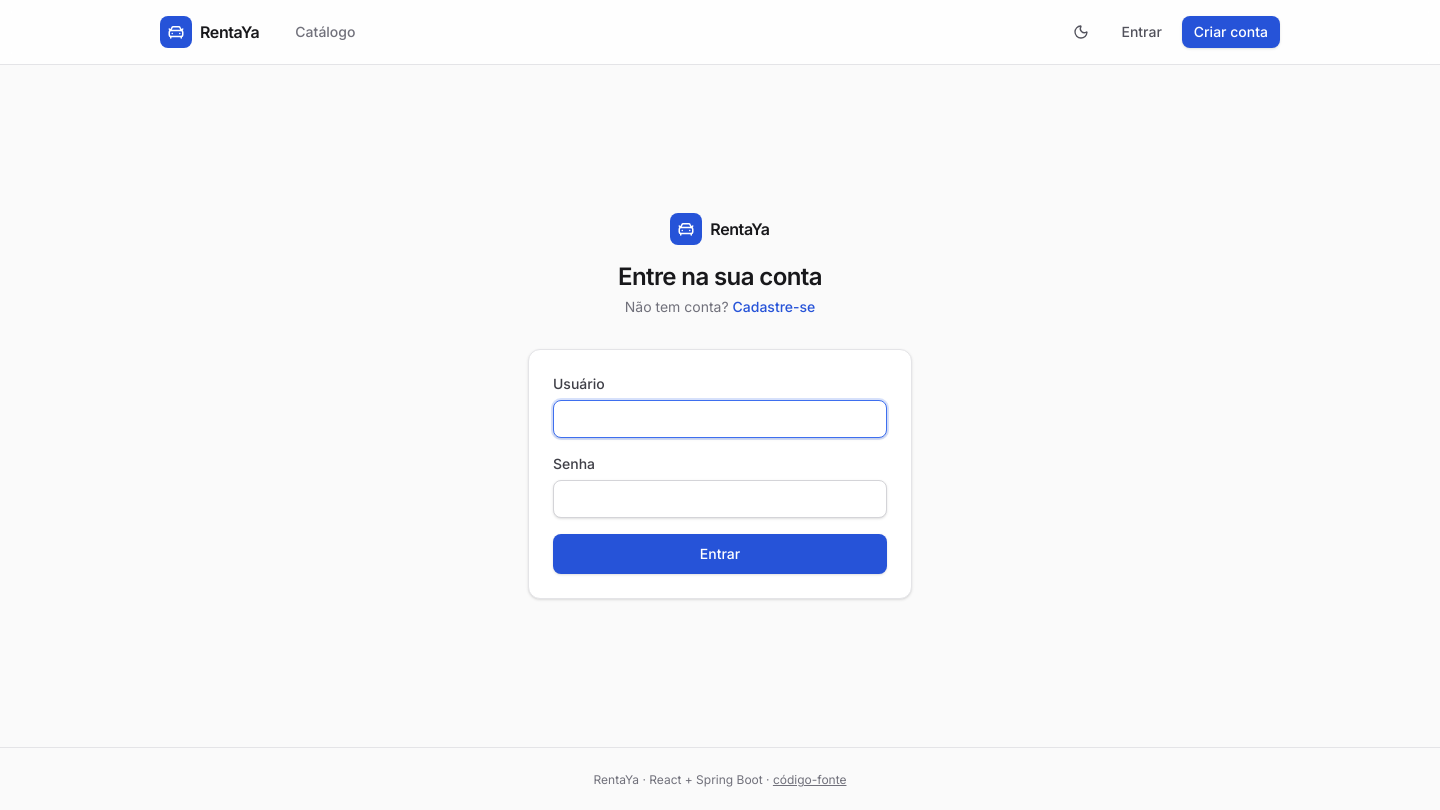
Test: Acceso y permisos › el login guarda el token y lleva al panel según el rol
Type "admin" into the field labelled "Usuário" at (720, 419), box [553,400,887,438]
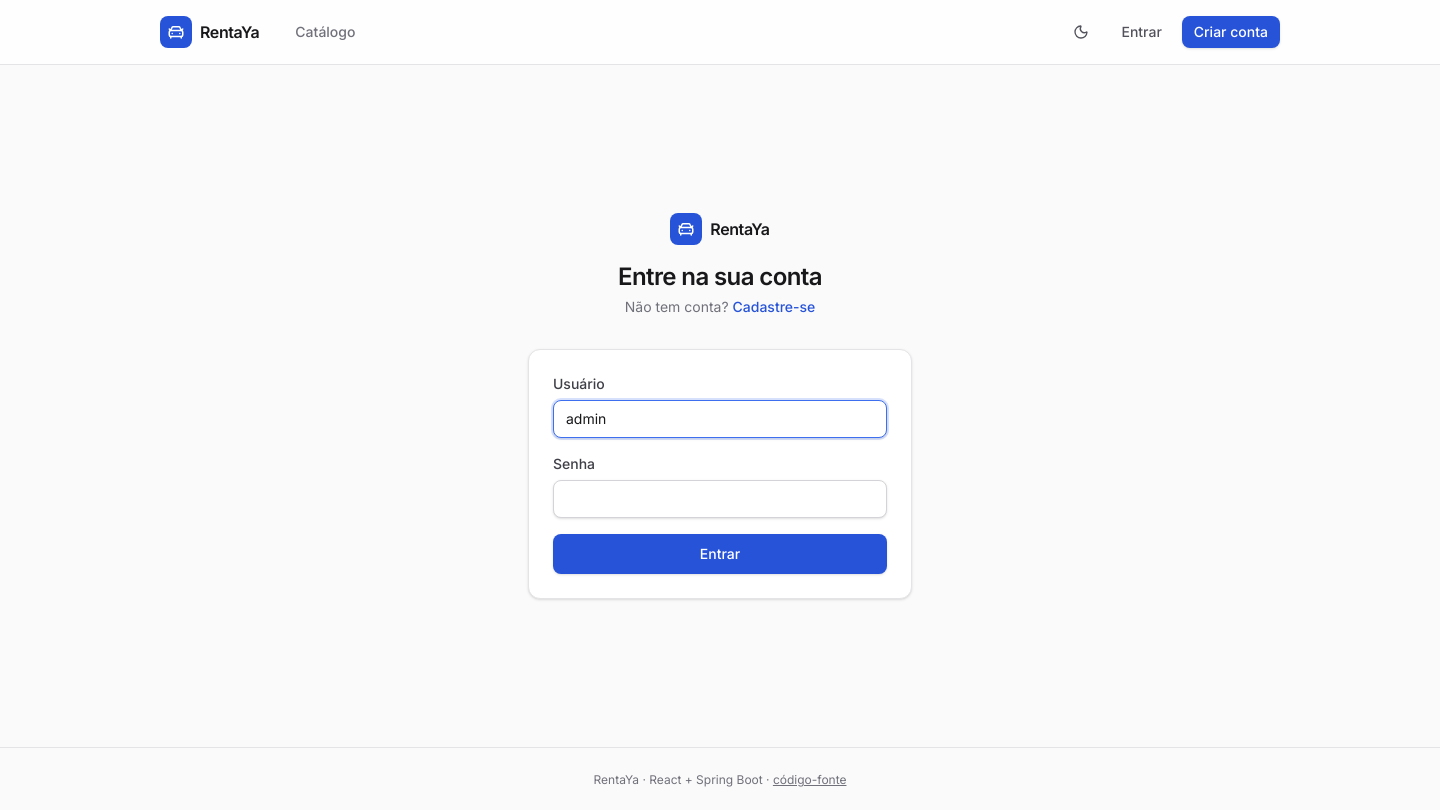
Type "clave-secreta" into the password field labelled "Senha" at (720, 499), box [553,480,887,518]
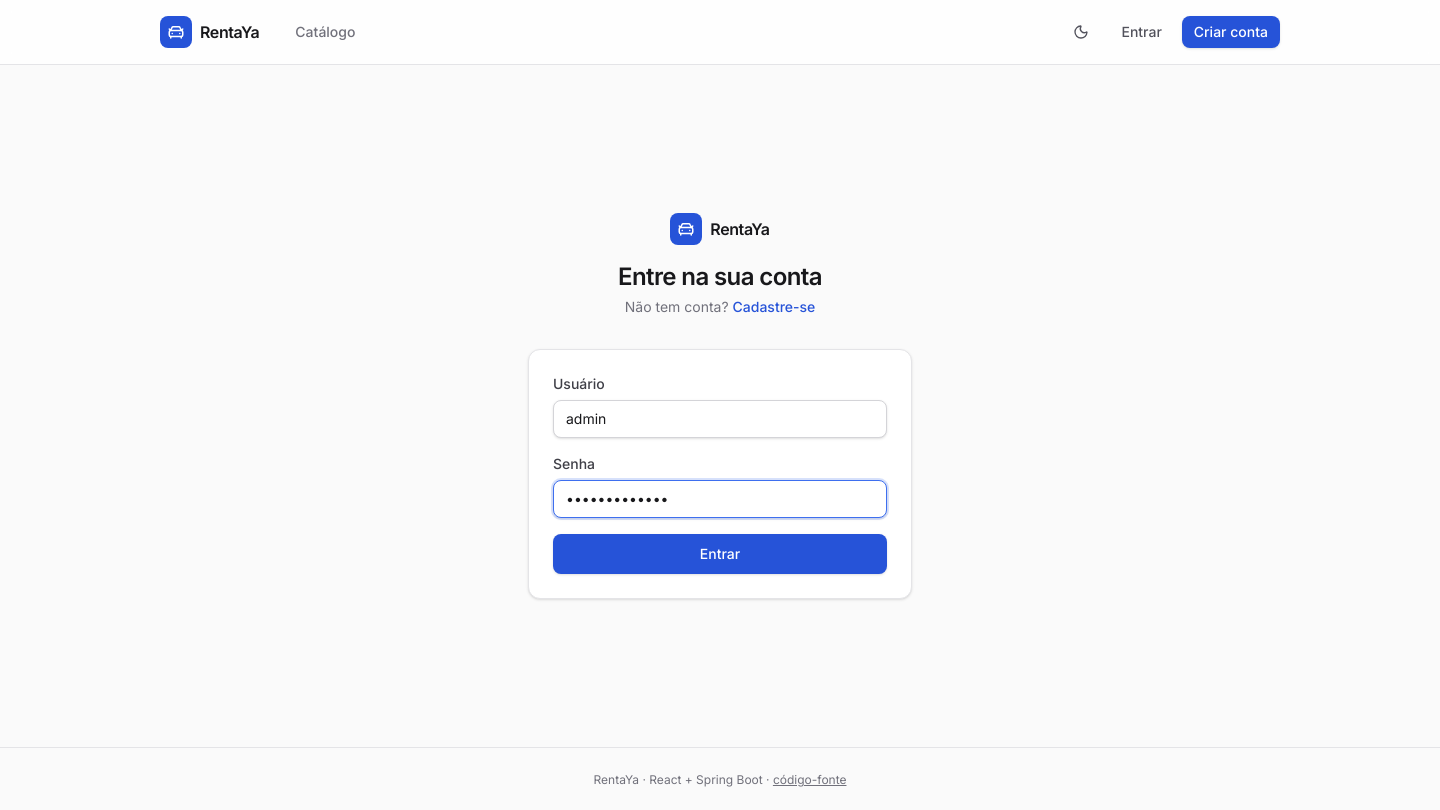
Click the button "Entrar" below "Senha" at (720, 554), box [553,534,887,574]
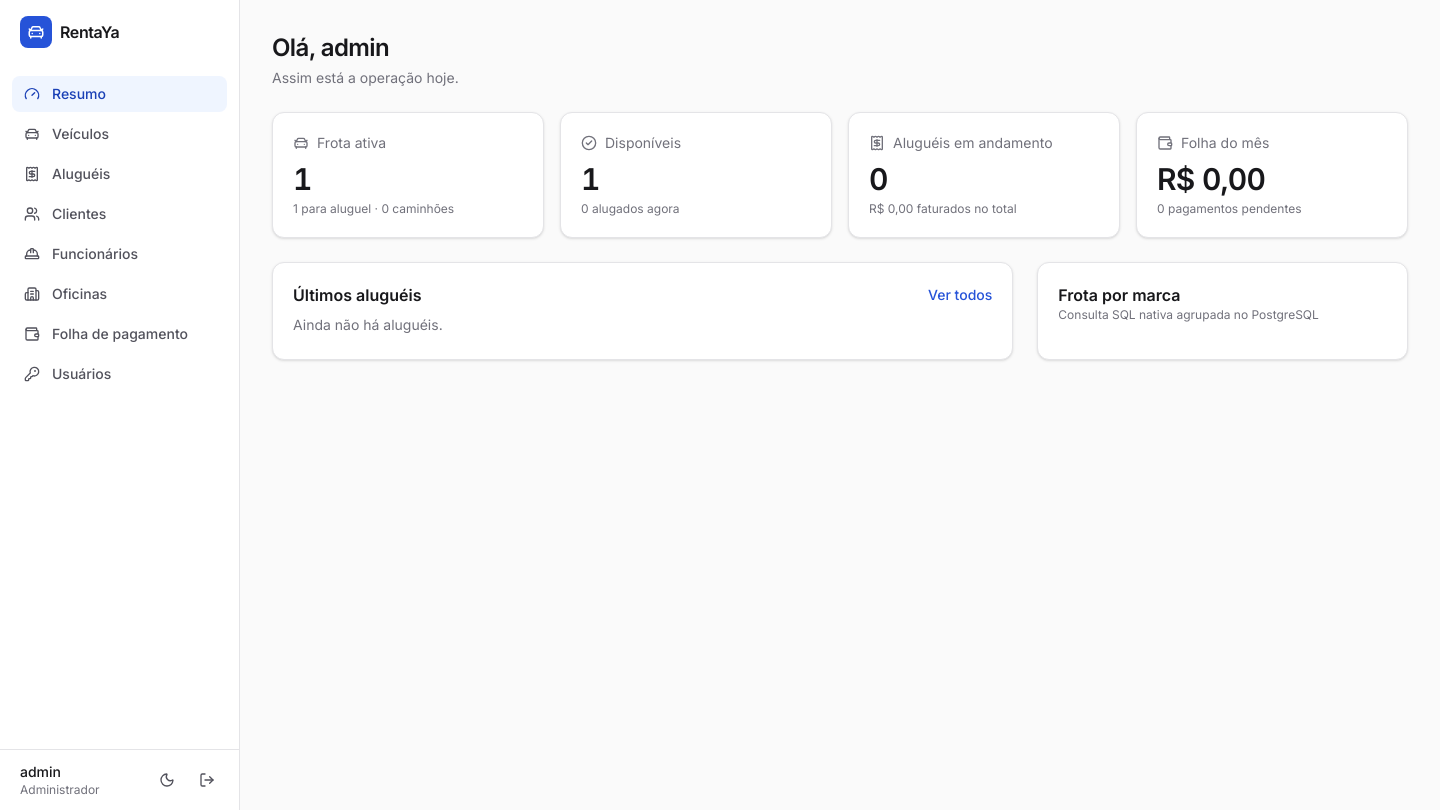
Check: the link "Folha de pagamento" is shown, box [24,325,188,342]
